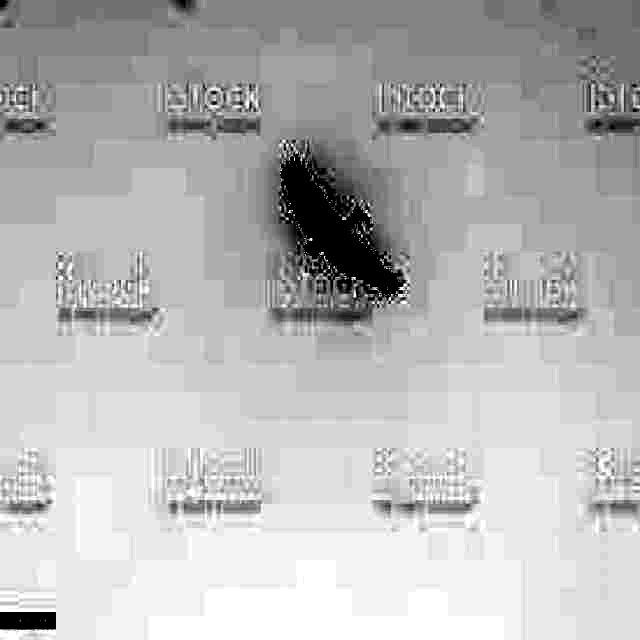bird: (267, 156, 406, 292)
